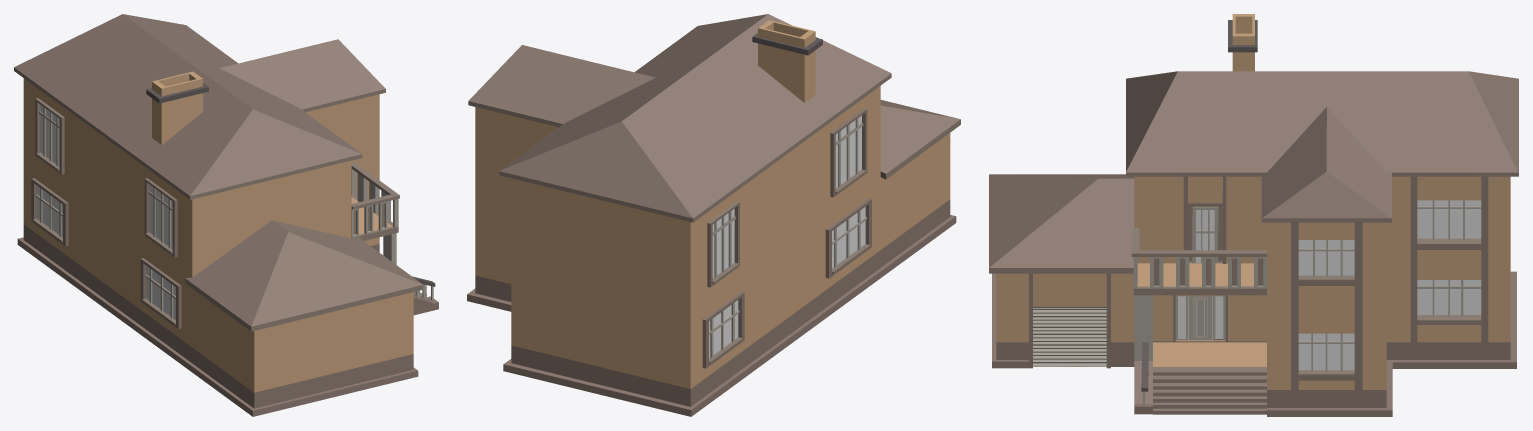
3 views of the same model, side by side, from view 1: azimuth 30°, elevation 25°; view 2: azimuth 150°, elevation 25°; view 3: azimuth 270°, elevation 25° (orthographic). The views are drawn at different scales.
Parts seen in each view (by area): view 1: Cube; view 2: Cube; view 3: Cube.
Part boxes in pixels (x1,y1,x2,y2): Cube: (14,14,438,416); Cube: (467,14,960,416); Cube: (989,14,1518,416).
Bounding box in the file's own units: 1291 × 1175 × 2063.
